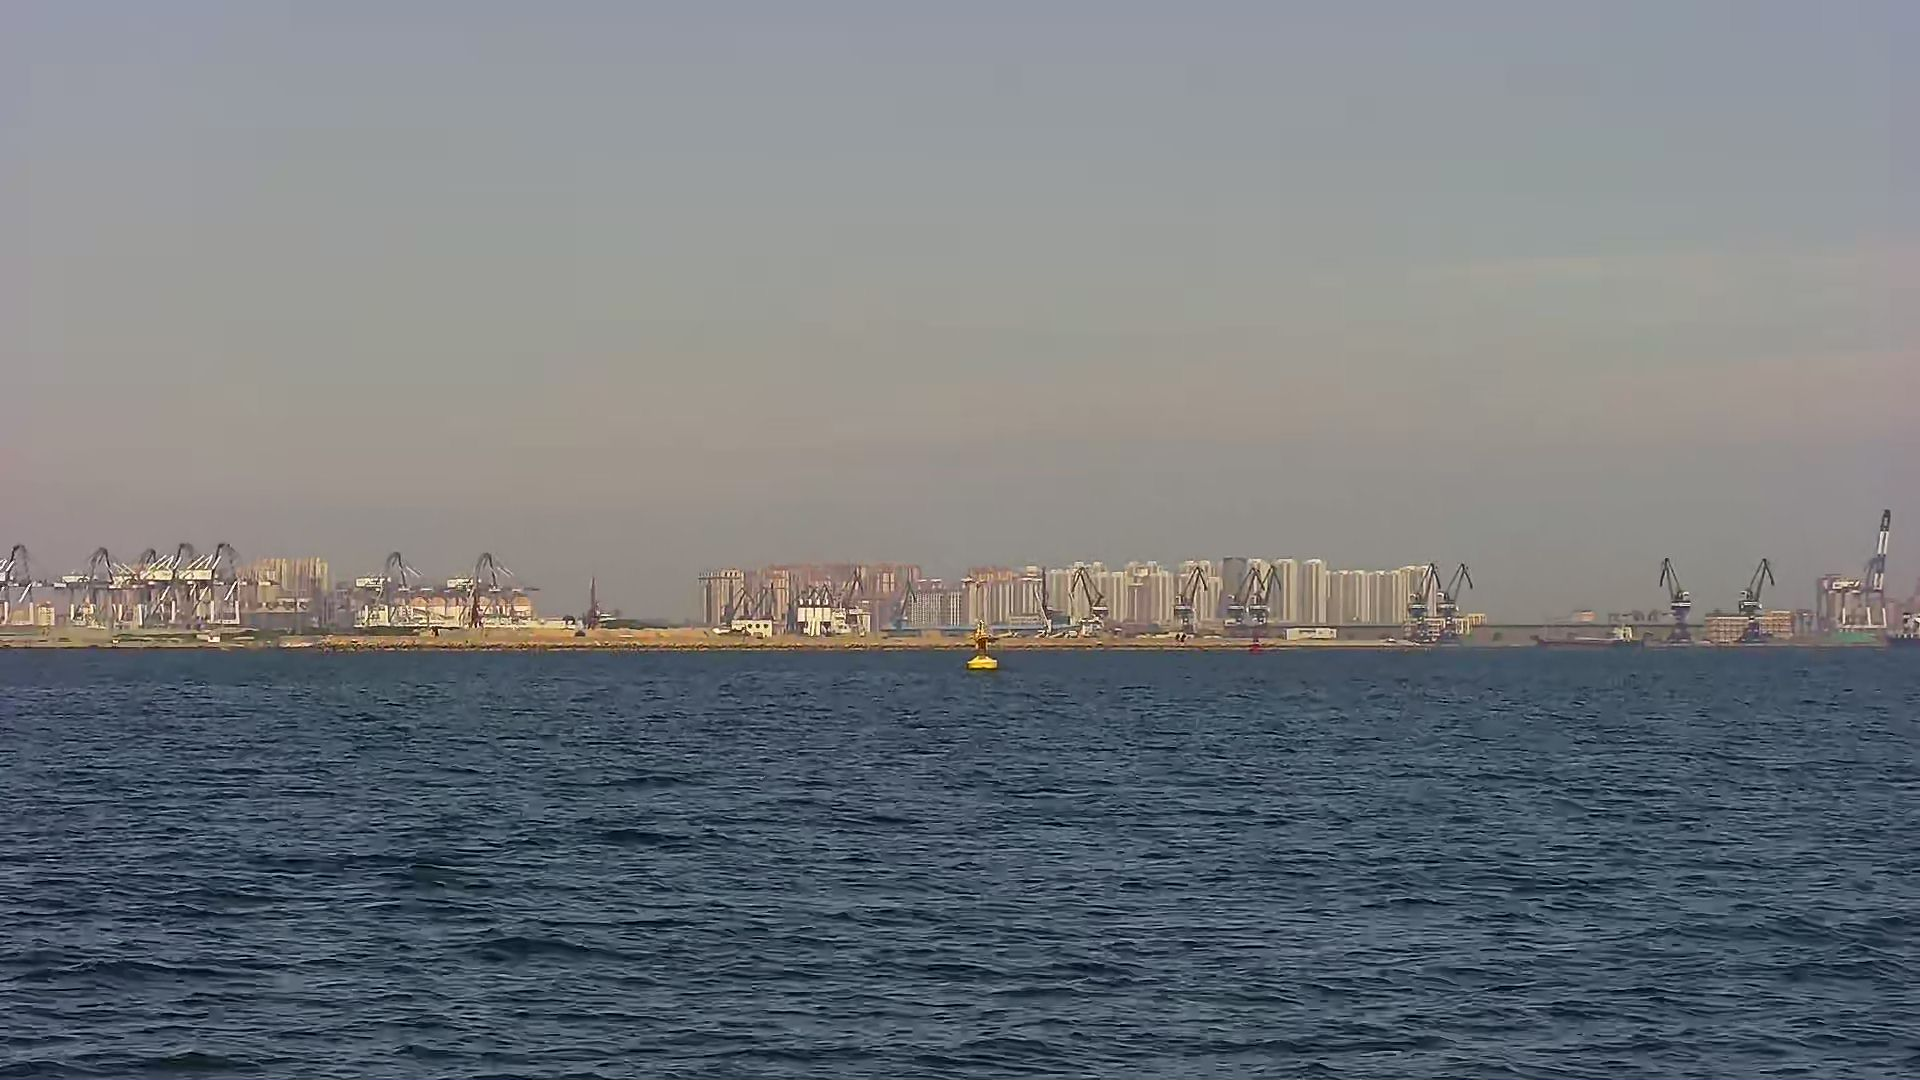buoy: (963, 636, 1001, 670)
ship: (1531, 628, 1651, 647)
